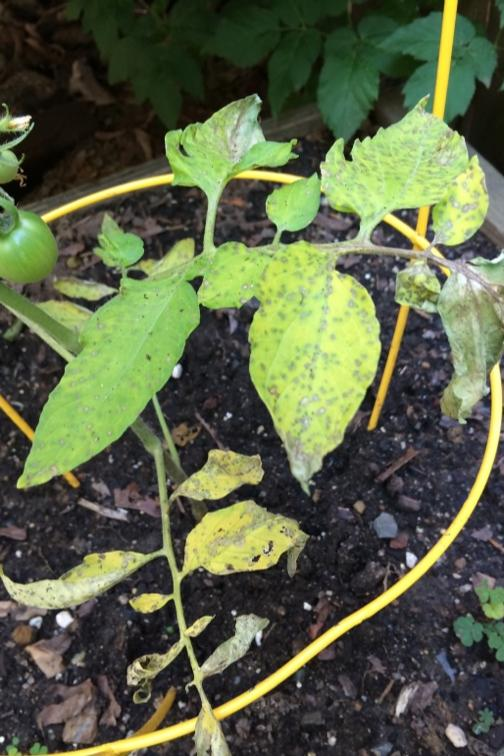Tomato Septoria leaf spot: (18, 241, 199, 491), (253, 224, 376, 502), (312, 90, 481, 225), (160, 75, 309, 210), (166, 506, 316, 587), (201, 229, 275, 310)
